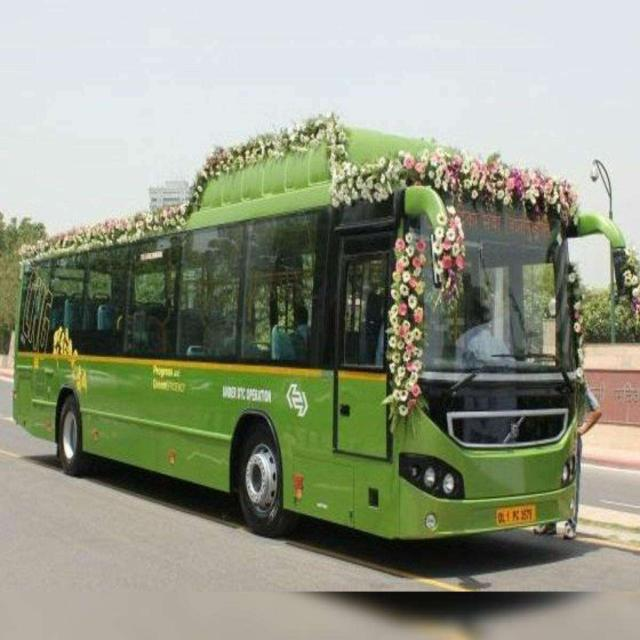bus: (14, 120, 626, 539)
